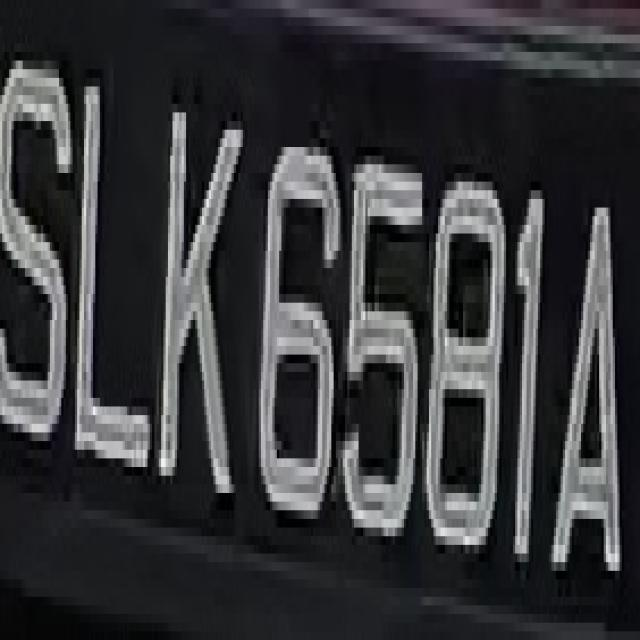1: (511, 112, 549, 597)
5: (336, 113, 427, 562)
6: (258, 95, 342, 545)
8: (424, 147, 504, 562)
A: (547, 138, 633, 614)
K: (159, 52, 245, 536)
L: (75, 61, 154, 510)
S: (2, 17, 70, 467)
